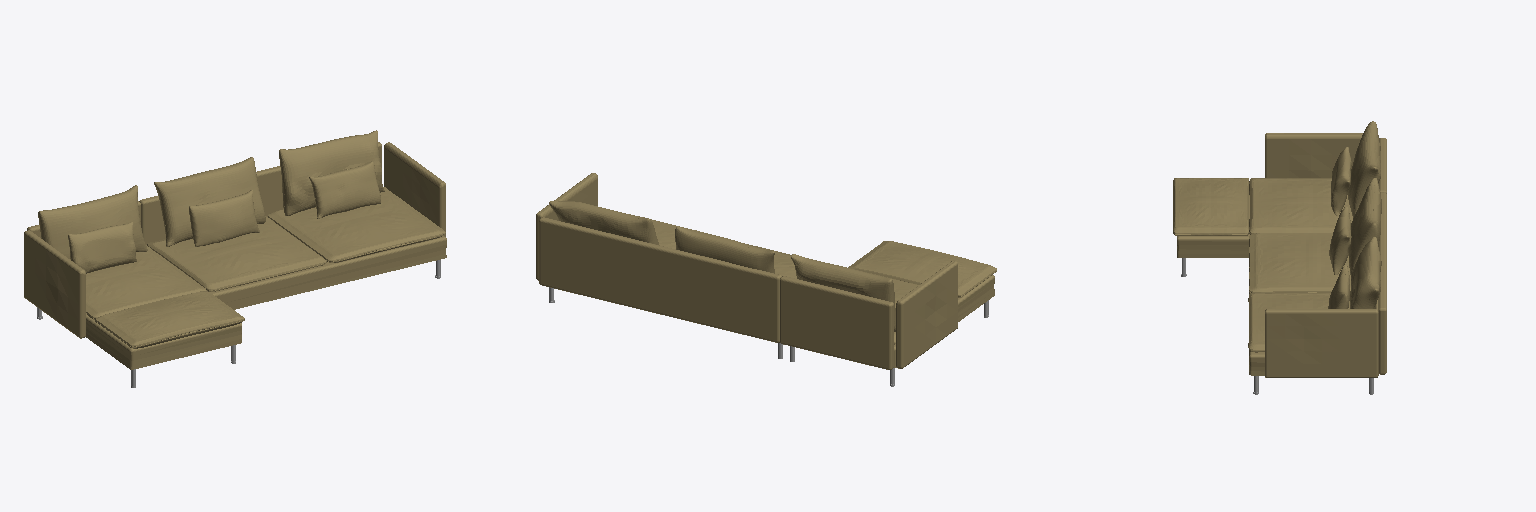
The model's file is soderhamn1.obj.
3 renders of one model, left to right at view 1: azimuth 30°, elevation 25°; view 2: azimuth 150°, elevation 25°; view 3: azimuth 270°, elevation 25°, orthographic.
Parts seen in each view (by area): view 1: Soffa_sides, cushion_sitt.001_cushion_sitt.005, cushion_sitt_cushion_sitt.006, Soffa, cushion_sitt.003_cushion_sitt.007, cushion_sitt.002_cushion_sitt.004, cushion_big_cushion.005, cushion_big.001_cushion.006, cushion_big.002_cushion.001, Soffa.001, cushion_small.001_cushion.008, cushion_small_cushion.010 (+1 smaller); view 2: Soffa_sides, cushion_sitt.003_cushion_sitt.007, cushion_big.002_cushion.001, cushion_big.001_cushion.006, cushion_big_cushion.005, Soffa.001; view 3: Soffa_sides, cushion_sitt_cushion_sitt.006, cushion_sitt.002_cushion_sitt.004, cushion_sitt.003_cushion_sitt.007, cushion_sitt.001_cushion_sitt.005, cushion_big.002_cushion.001, cushion_big.001_cushion.006, cushion_big_cushion.005, Soffa.001, cushion_small.002_cushion.007, cushion_small_cushion.010, cushion_small.001_cushion.008.
Part boxes in pixels (bbox=[...]): Soffa_sides: bbox=[24, 142, 445, 338]; cushion_sitt.001_cushion_sitt.005: bbox=[268, 187, 445, 262]; cushion_sitt_cushion_sitt.006: bbox=[147, 216, 326, 291]; Soffa: bbox=[210, 236, 446, 309]; cushion_sitt.003_cushion_sitt.007: bbox=[95, 291, 244, 348]; cushion_sitt.002_cushion_sitt.004: bbox=[86, 245, 206, 319]; cushion_big_cushion.005: bbox=[154, 157, 265, 246]; cushion_big.001_cushion.006: bbox=[279, 130, 384, 215]; cushion_big.002_cushion.001: bbox=[38, 185, 147, 259]; Soffa.001: bbox=[86, 314, 241, 369]; cushion_small.001_cushion.008: bbox=[309, 161, 380, 218]; cushion_small_cushion.010: bbox=[189, 190, 259, 246]; Soffa_sides: bbox=[536, 173, 957, 369]; cushion_sitt.003_cushion_sitt.007: bbox=[848, 241, 996, 297]; cushion_big.002_cushion.001: bbox=[791, 254, 895, 331]; cushion_big.001_cushion.006: bbox=[549, 201, 658, 244]; cushion_big_cushion.005: bbox=[675, 226, 774, 273]; Soffa.001: bbox=[894, 275, 994, 367]; Soffa_sides: bbox=[1265, 133, 1386, 377]; cushion_sitt_cushion_sitt.006: bbox=[1249, 233, 1350, 292]; cushion_sitt.002_cushion_sitt.004: bbox=[1249, 178, 1352, 234]; cushion_sitt.003_cushion_sitt.007: bbox=[1173, 178, 1248, 235]; cushion_sitt.001_cushion_sitt.005: bbox=[1248, 292, 1376, 352]; cushion_big.002_cushion.001: bbox=[1348, 121, 1380, 217]; cushion_big.001_cushion.006: bbox=[1350, 237, 1381, 308]; cushion_big_cushion.005: bbox=[1348, 178, 1381, 274]; Soffa.001: bbox=[1177, 196, 1249, 257]; cushion_small.002_cushion.007: bbox=[1331, 147, 1351, 215]; cushion_small_cushion.010: bbox=[1329, 207, 1351, 274]; cushion_small.001_cushion.008: bbox=[1328, 265, 1349, 308].
Size of the model in its own units: 2.92 by 0.8247 by 1.47.